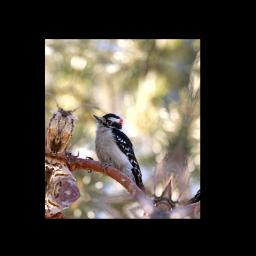Woodpecker: (76, 109, 163, 195)
